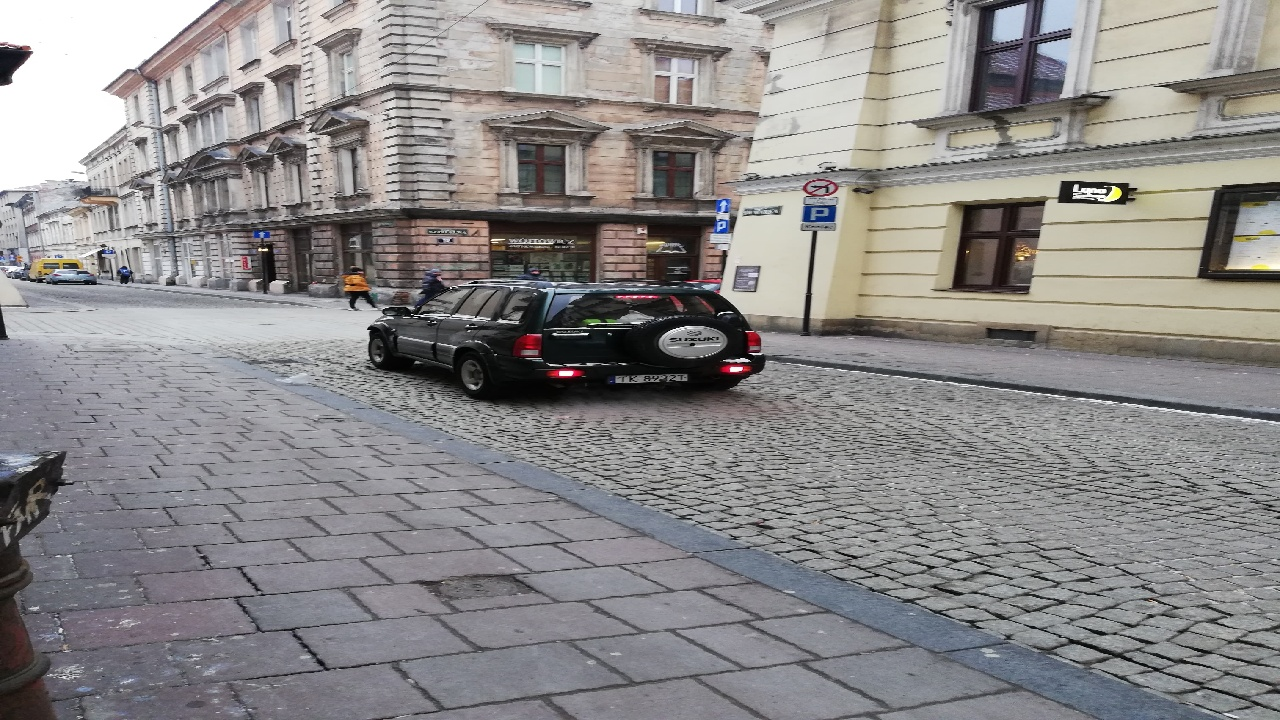B21: (801, 172, 839, 197)
D18: (798, 205, 842, 226)
